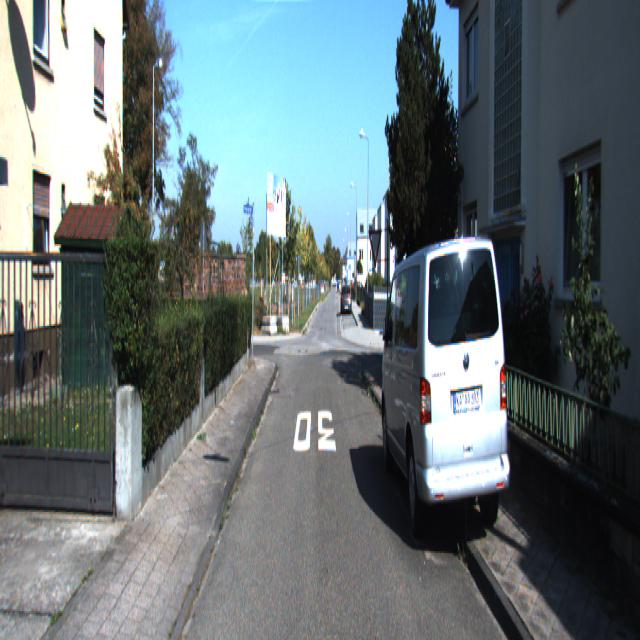Car: (379, 231, 511, 578), (342, 283, 352, 313)
